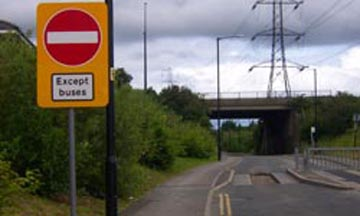No_entry: (42, 8, 102, 66)
